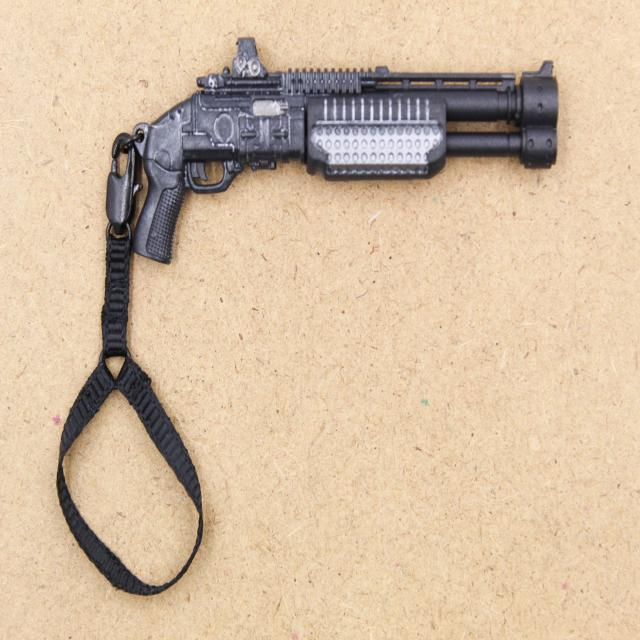ShotGun: (131, 38, 560, 264)
